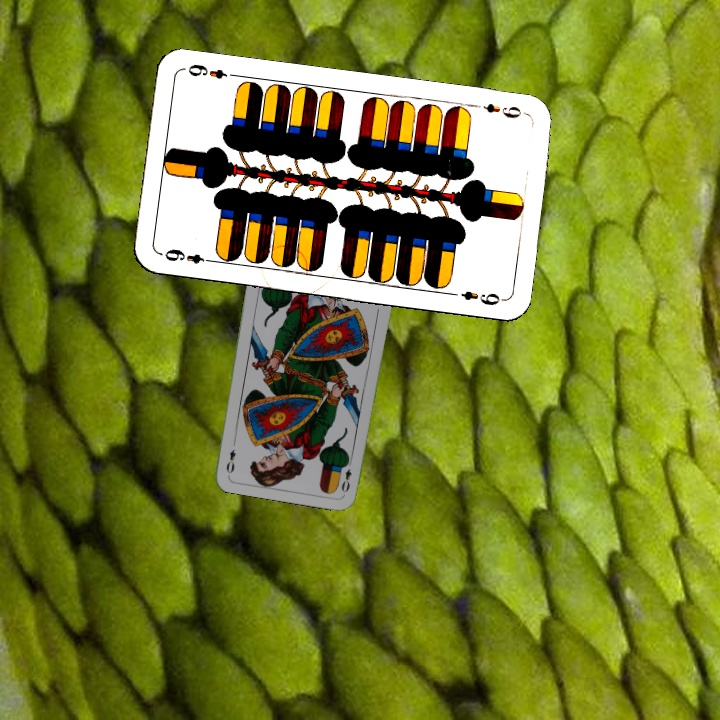E9: (470, 99, 528, 121), (161, 245, 217, 267)
EO: (337, 456, 354, 495)
